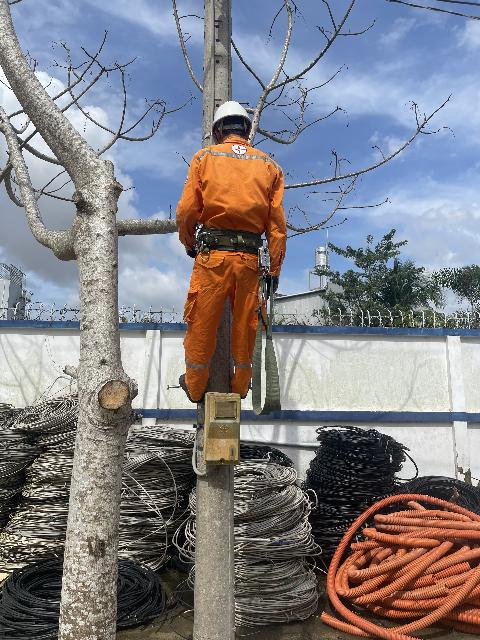gloves: (265, 268, 287, 298)
harness: (188, 228, 272, 269)
helmet: (201, 95, 265, 135)
shoes: (179, 364, 212, 406)
